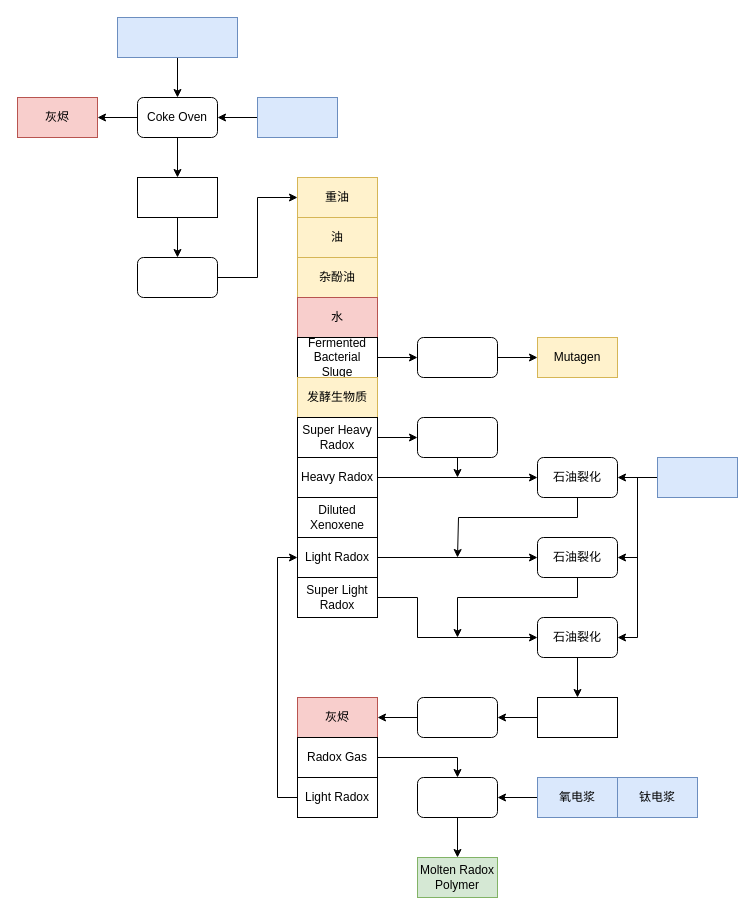
Image size: 755x915. Some labels were removed from this diagram. Here are the shapes that lost their labels. From the top down, the centre of each, then its label:
At (177,37): "Barnarda C Wood".
At (297,117): "Xenoxene".
At (177,197): "Raw Radox".
At (177,277): "蒸馏塔".
At (457,357): "小蒸馏".
At (457,437): "离心".
At (697,477): "银电浆".
At (457,717): "蒸馏".
At (577,717): "裂化 Radox".
At (457,797): "大化反".
